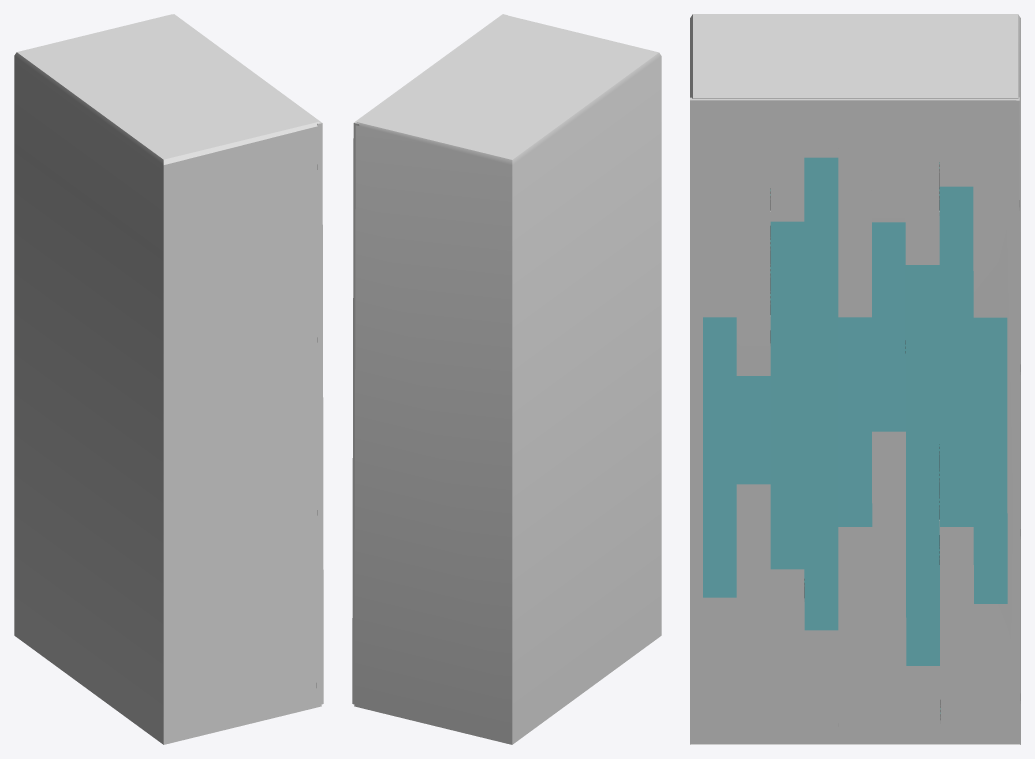
The model's file is Server Farm.fbx.
The picture shows the model from 3 angles, left to right: view 1: azimuth 30°, elevation 25°; view 2: azimuth 150°, elevation 25°; view 3: azimuth 270°, elevation 25°; orthographic projection. The views are drawn at different scales.
Parts seen in each view (by area): view 1: Server Farm Box, Server Farm Door; view 2: Server Farm Box, Server Farm Door; view 3: Server Farm Door, Server Farm Box.
Boxes of the visible parts, x1=… form: Server Farm Box: x1=14, y1=14, x2=321, y2=744; Server Farm Door: x1=173, y1=14, x2=323, y2=705; Server Farm Box: x1=354, y1=14, x2=661, y2=744; Server Farm Door: x1=352, y1=14, x2=507, y2=704; Server Farm Door: x1=690, y1=97, x2=1020, y2=743; Server Farm Box: x1=690, y1=14, x2=1020, y2=744.
Size of the model in its own units: 59.23 by 207 by 95.83.
